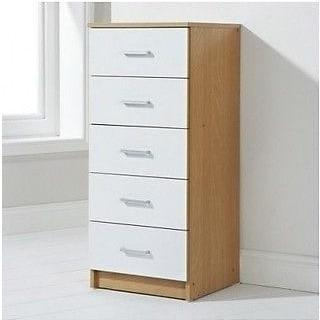cabinet_door: (90, 30, 187, 78), (89, 178, 186, 226), (90, 129, 187, 177), (90, 78, 186, 126), (89, 228, 185, 276)
handle: (122, 46, 156, 62), (120, 96, 152, 112), (120, 197, 156, 211), (120, 244, 153, 258), (118, 145, 153, 158)
